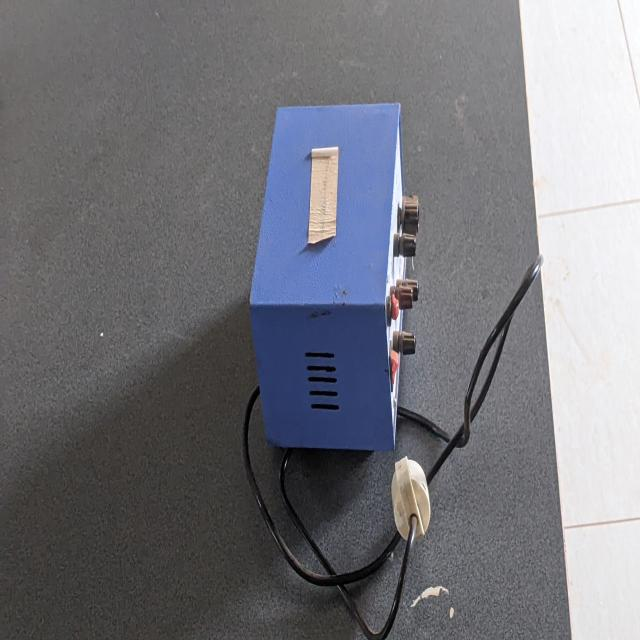Analog DC Power Supply: (244, 91, 420, 478)
